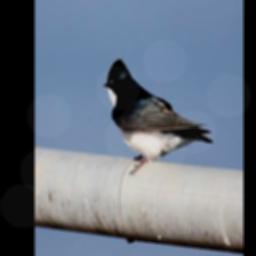Swallow: (104, 57, 214, 176)
